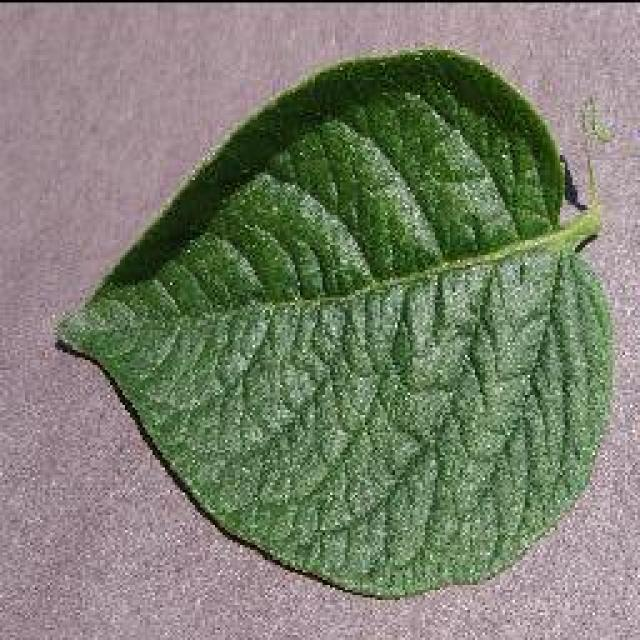Potato___healthy: (54, 48, 618, 602)
